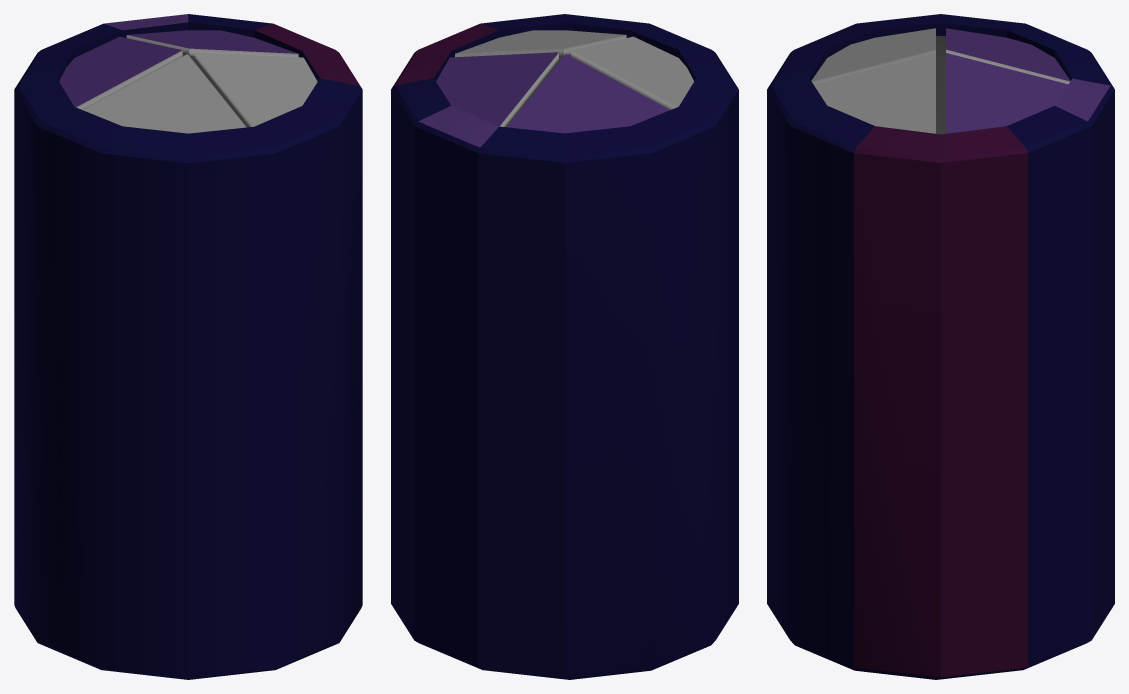
File: zepsuty_kondensator.fbx
The picture shows the model from 3 angles, left to right: view 1: azimuth 30°, elevation 25°; view 2: azimuth 150°, elevation 25°; view 3: azimuth 270°, elevation 25°; orthographic projection.
Parts seen in each view (by area): view 1: zepsuty_kondensator; view 2: zepsuty_kondensator; view 3: zepsuty_kondensator.
Boxes of the visible parts, bbox=[...] form: zepsuty_kondensator: bbox=[14, 14, 362, 679]; zepsuty_kondensator: bbox=[391, 14, 738, 679]; zepsuty_kondensator: bbox=[767, 14, 1114, 679].
Bounding box in the file's own units: 200 × 353 × 200.
